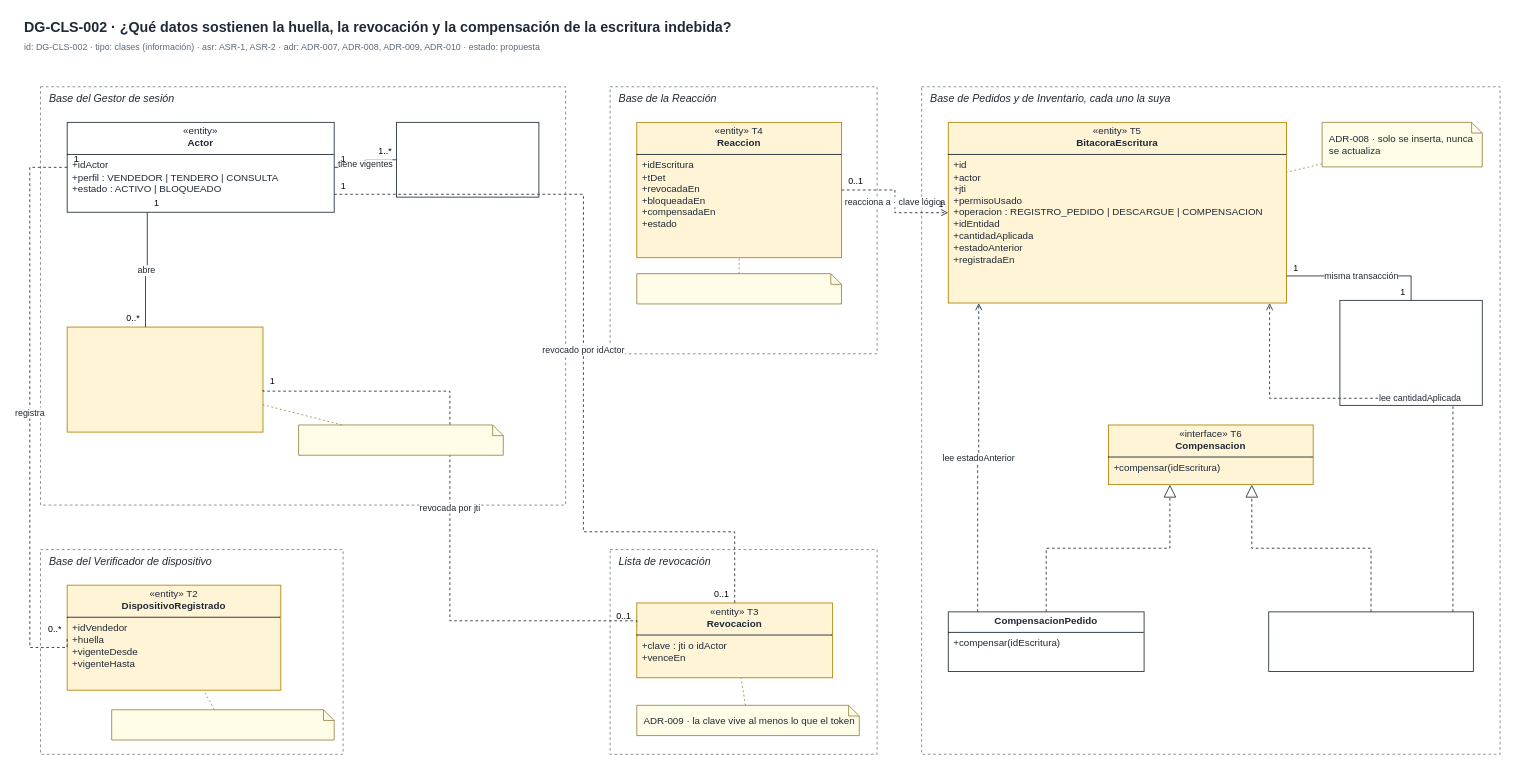
Some shapes in this 1533 by 770 pixel diagram are drawn without their labels. Each missing label, with the centre of its shape:
ADR-007 · la huella viaja en la sesión: pixel 400 439
ADR-007 · una sola huella vigente por vendedor: pixel 222 724
ADR-010 · una reacción por escritura: pixel 738 288
CompensacionDescargue +compensar(idEscritura): pixel 1370 641
«entity» Outbox +id +tipo +carga +enviadoEn: pixel 1410 352
«entity» Permiso +operacion +alcance: pixel 467 159
«entity» T1 Sesion +jti +huella +abiertaEn +venceEn: pixel 164 379
